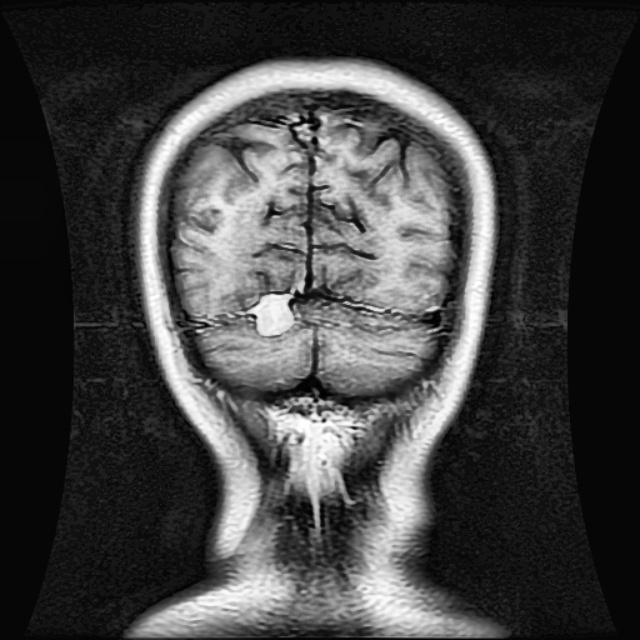Glioma: (250, 292, 293, 334)
